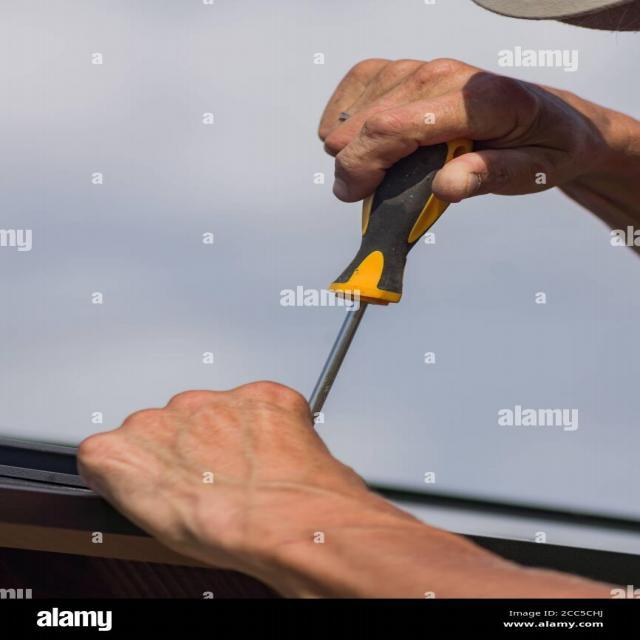screwdriver: (296, 127, 470, 438)
